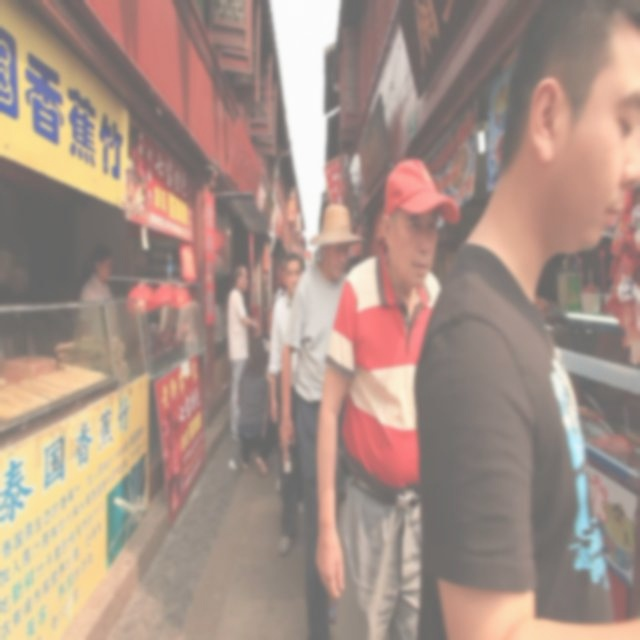pessoa: (316, 156, 462, 639), (278, 200, 368, 639), (266, 251, 306, 554), (0, 236, 60, 367), (236, 334, 278, 476), (226, 262, 259, 442), (71, 238, 122, 344), (124, 236, 158, 336), (172, 277, 204, 363), (212, 294, 224, 366), (274, 260, 286, 300), (292, 489, 304, 519), (328, 604, 343, 623), (274, 476, 281, 500), (347, 254, 355, 274), (264, 349, 270, 371), (301, 258, 308, 274)
